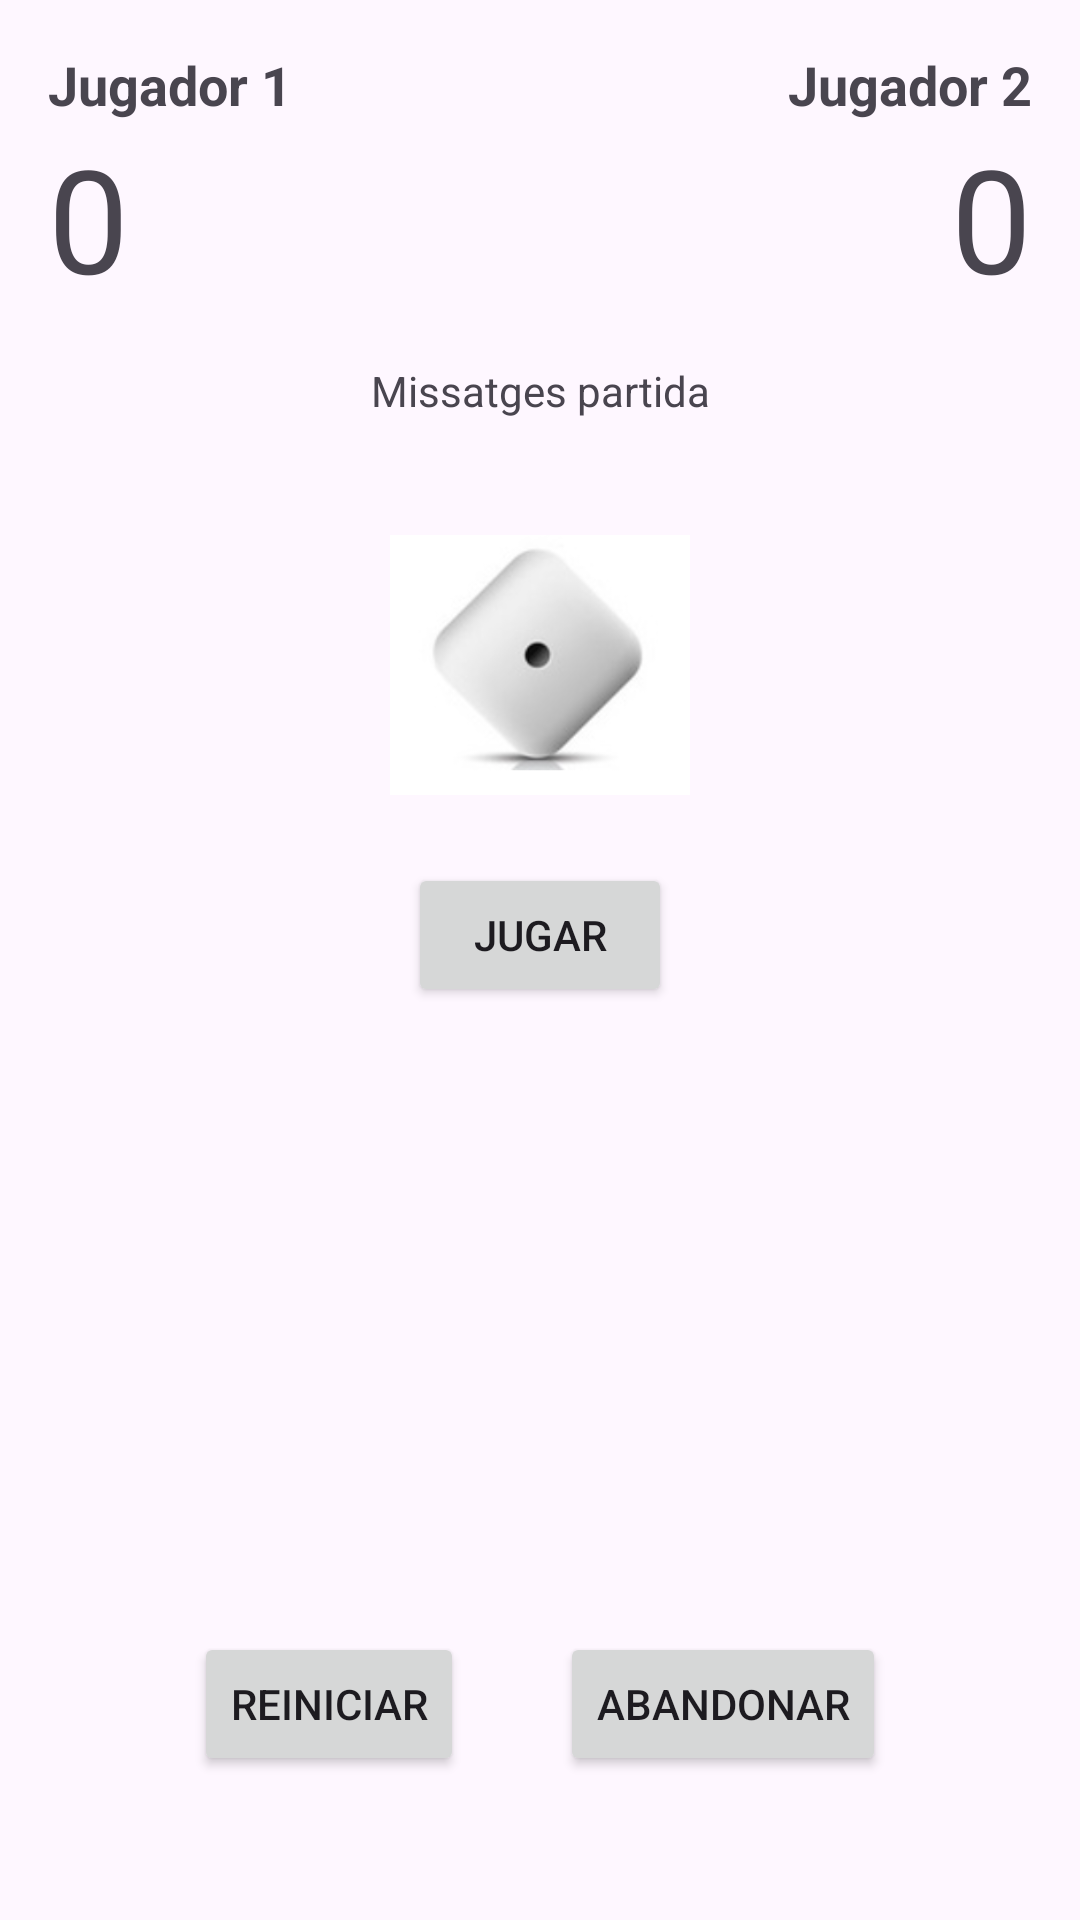

Locate icon controls on the screen. Image size 1080*1920, boxes as (x1, y1, x2, y2).
Dado: (434, 550, 642, 770)
